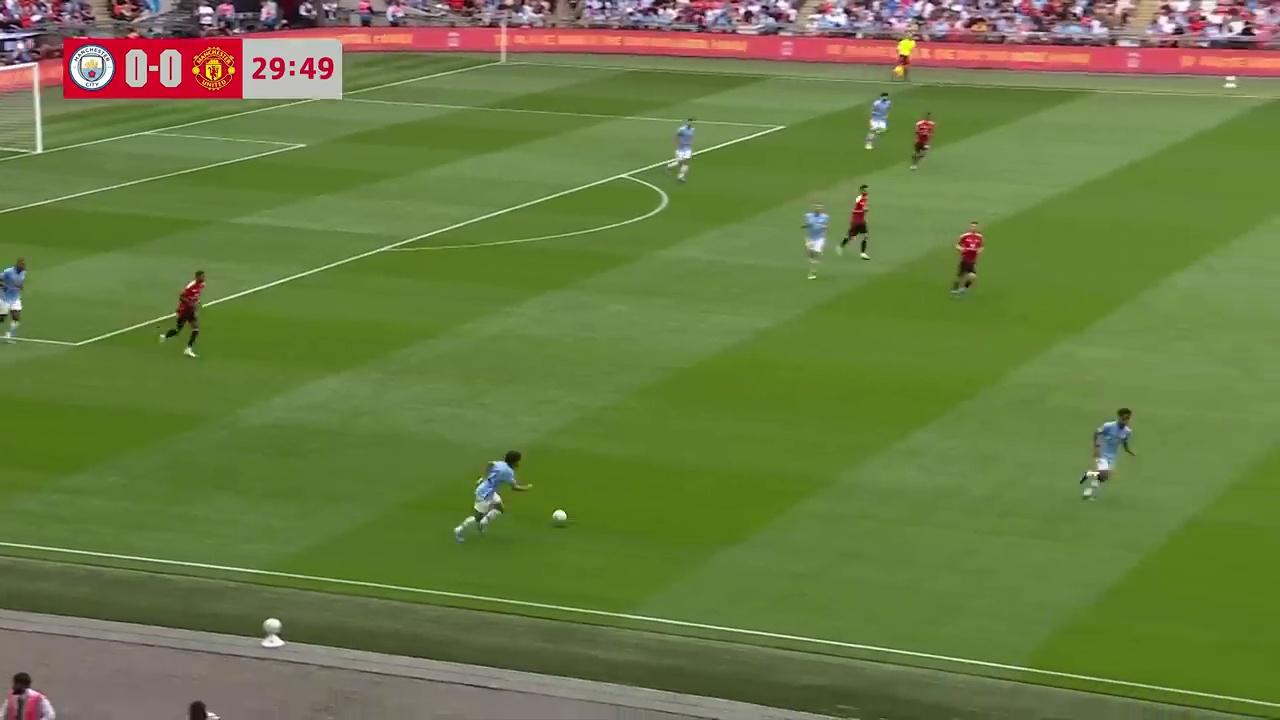ball: (550, 507, 568, 527)
player: (453, 447, 534, 541), (1079, 407, 1135, 500), (158, 270, 205, 357), (949, 220, 983, 296), (837, 184, 870, 259), (800, 203, 831, 279), (0, 257, 26, 345), (670, 117, 695, 182), (910, 112, 936, 169), (865, 91, 891, 147)
referee: (893, 32, 915, 80)
